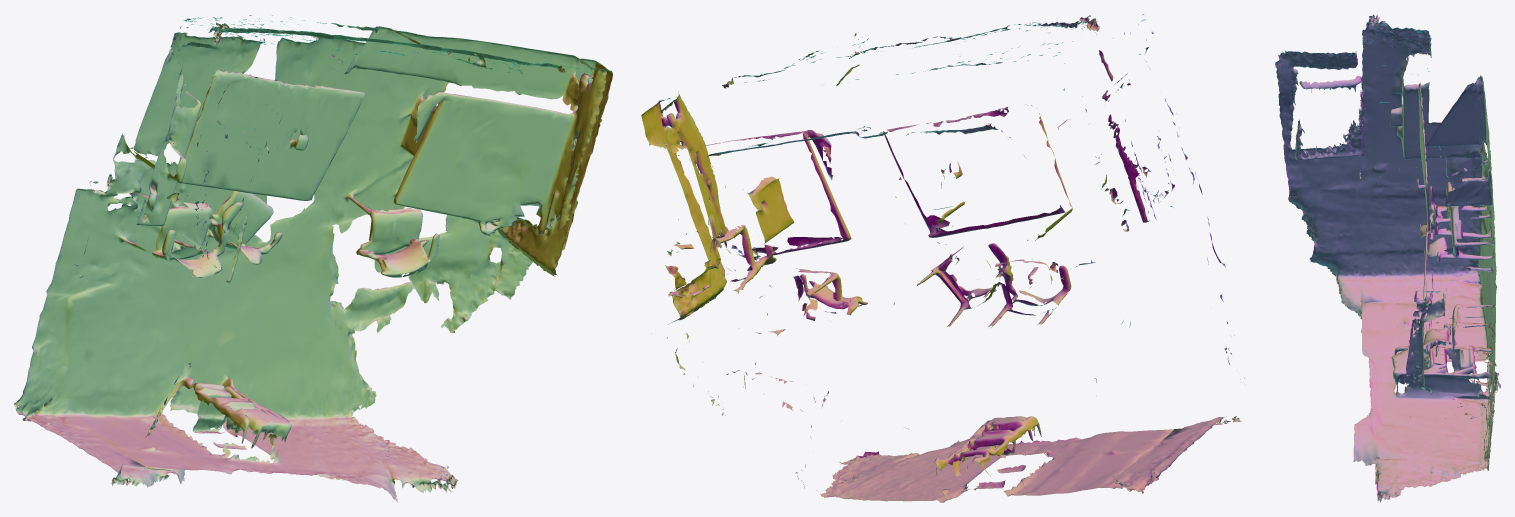
3 renders of one model, left to right at view 1: azimuth 30°, elevation 25°; view 2: azimuth 150°, elevation 25°; view 3: azimuth 270°, elevation 25°, orthographic. The views are drawn at different scales.
Size of the model in its own units: 5.4 by 4.87 by 2.49.
